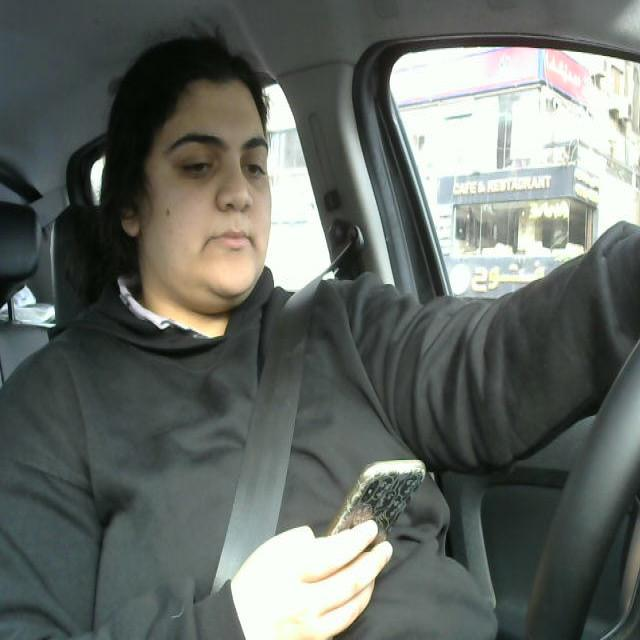mobile use: (326, 459, 426, 548)
